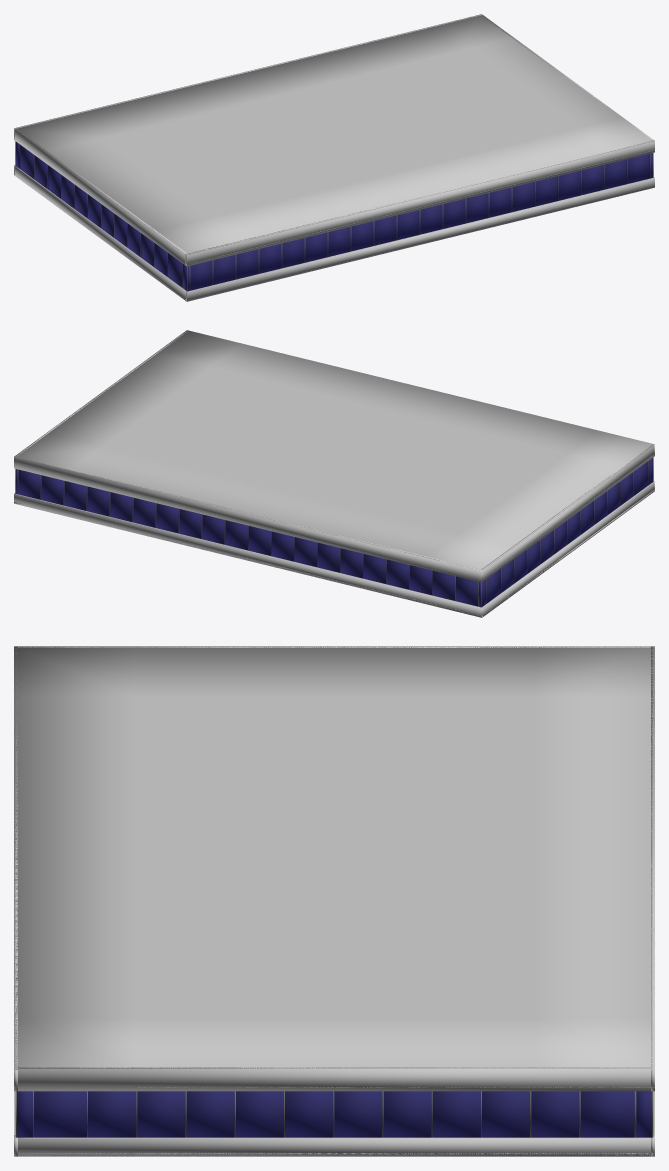
The model's file is PendantLightFloor9ft.obj.
The picture shows the model from 3 angles, top to bottom: view 1: azimuth 30°, elevation 25°; view 2: azimuth 150°, elevation 25°; view 3: azimuth 270°, elevation 25°; orthographic projection. The views are drawn at different scales.
Visible parts, largest first — view 1: group_Default, group_tintglass, group_clearglass, group_Mullion; view 2: group_Default, group_tintglass, group_clearglass, group_Mullion; view 3: group_Default, group_tintglass, group_clearglass, group_Mullion.
Boxes of the visible parts, bbox=[...] form: group_Default: bbox=[14, 14, 654, 301]; group_tintglass: bbox=[15, 141, 652, 291]; group_clearglass: bbox=[16, 142, 652, 290]; group_Mullion: bbox=[15, 141, 653, 291]; group_Default: bbox=[14, 330, 654, 617]; group_tintglass: bbox=[15, 457, 653, 607]; group_clearglass: bbox=[16, 458, 652, 606]; group_Mullion: bbox=[15, 457, 653, 607]; group_Default: bbox=[14, 646, 654, 1156]; group_tintglass: bbox=[17, 1091, 651, 1137]; group_clearglass: bbox=[17, 1091, 651, 1137]; group_Mullion: bbox=[15, 1091, 653, 1137].
Size of the model in its own units: 38.11 by 3.66 by 24.39.
